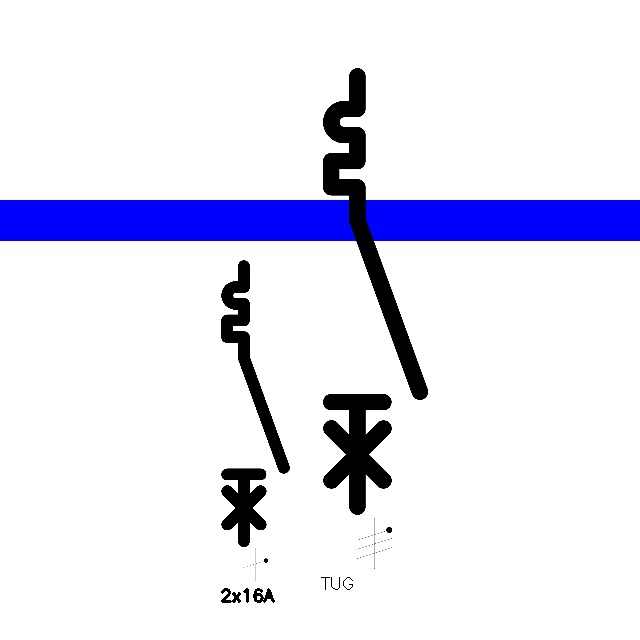interruptor_termomagnetico: (320, 65, 431, 518), (220, 259, 291, 548)
